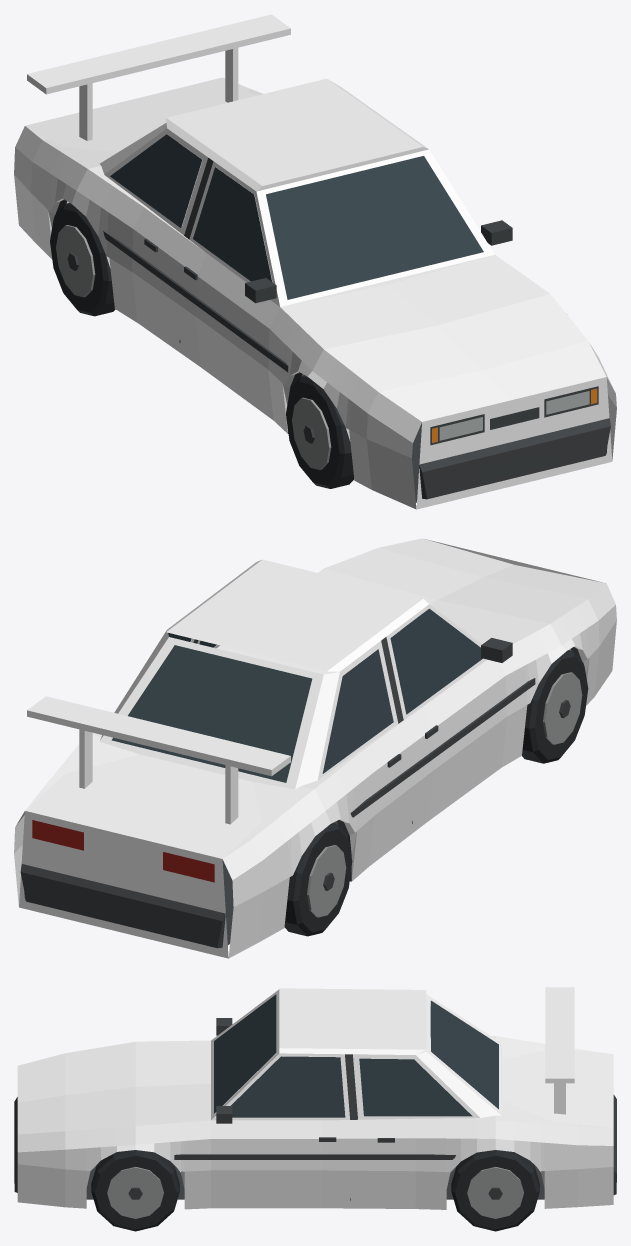
Rendered from hoshino_shiokaze_corrida.glb.
3 renders of one model, top to bottom at view 1: azimuth 30°, elevation 25°; view 2: azimuth 150°, elevation 25°; view 3: azimuth 270°, elevation 25°, orthographic. The views are drawn at different scales.
Visible parts, largest first — view 1: hoshino_shiokaze_corrida; view 2: hoshino_shiokaze_corrida; view 3: hoshino_shiokaze_corrida.
Part boxes in pixels (left/top/right/bottom): hoshino_shiokaze_corrida: left=14, top=14, right=616, bottom=509; hoshino_shiokaze_corrida: left=14, top=538, right=616, bottom=958; hoshino_shiokaze_corrida: left=14, top=987, right=616, bottom=1231.
Size of the model in its own units: 1.71 by 1.39 by 4.52.
Materials: 8 (1 with a texture image).
